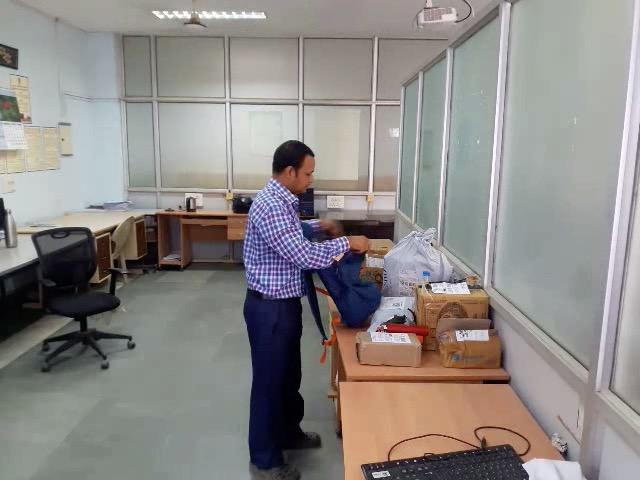shoplifting: (301, 209, 378, 337)
